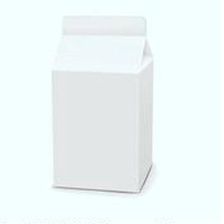carton: (47, 8, 160, 198)
